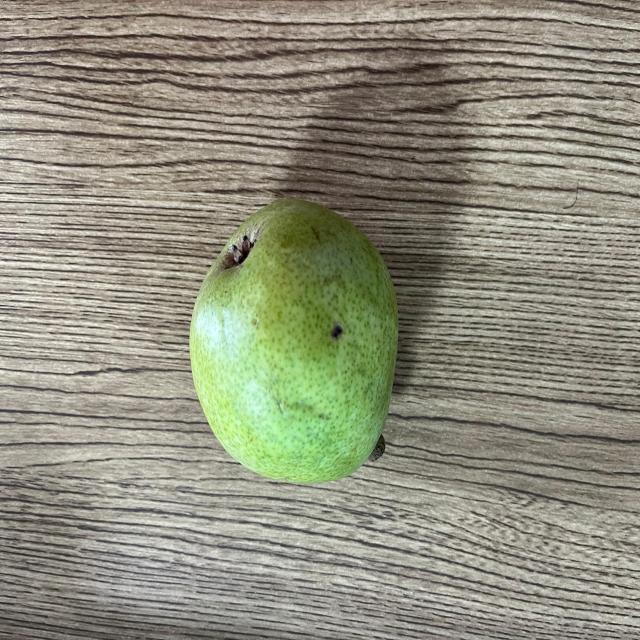Pir: (187, 196, 402, 490)
